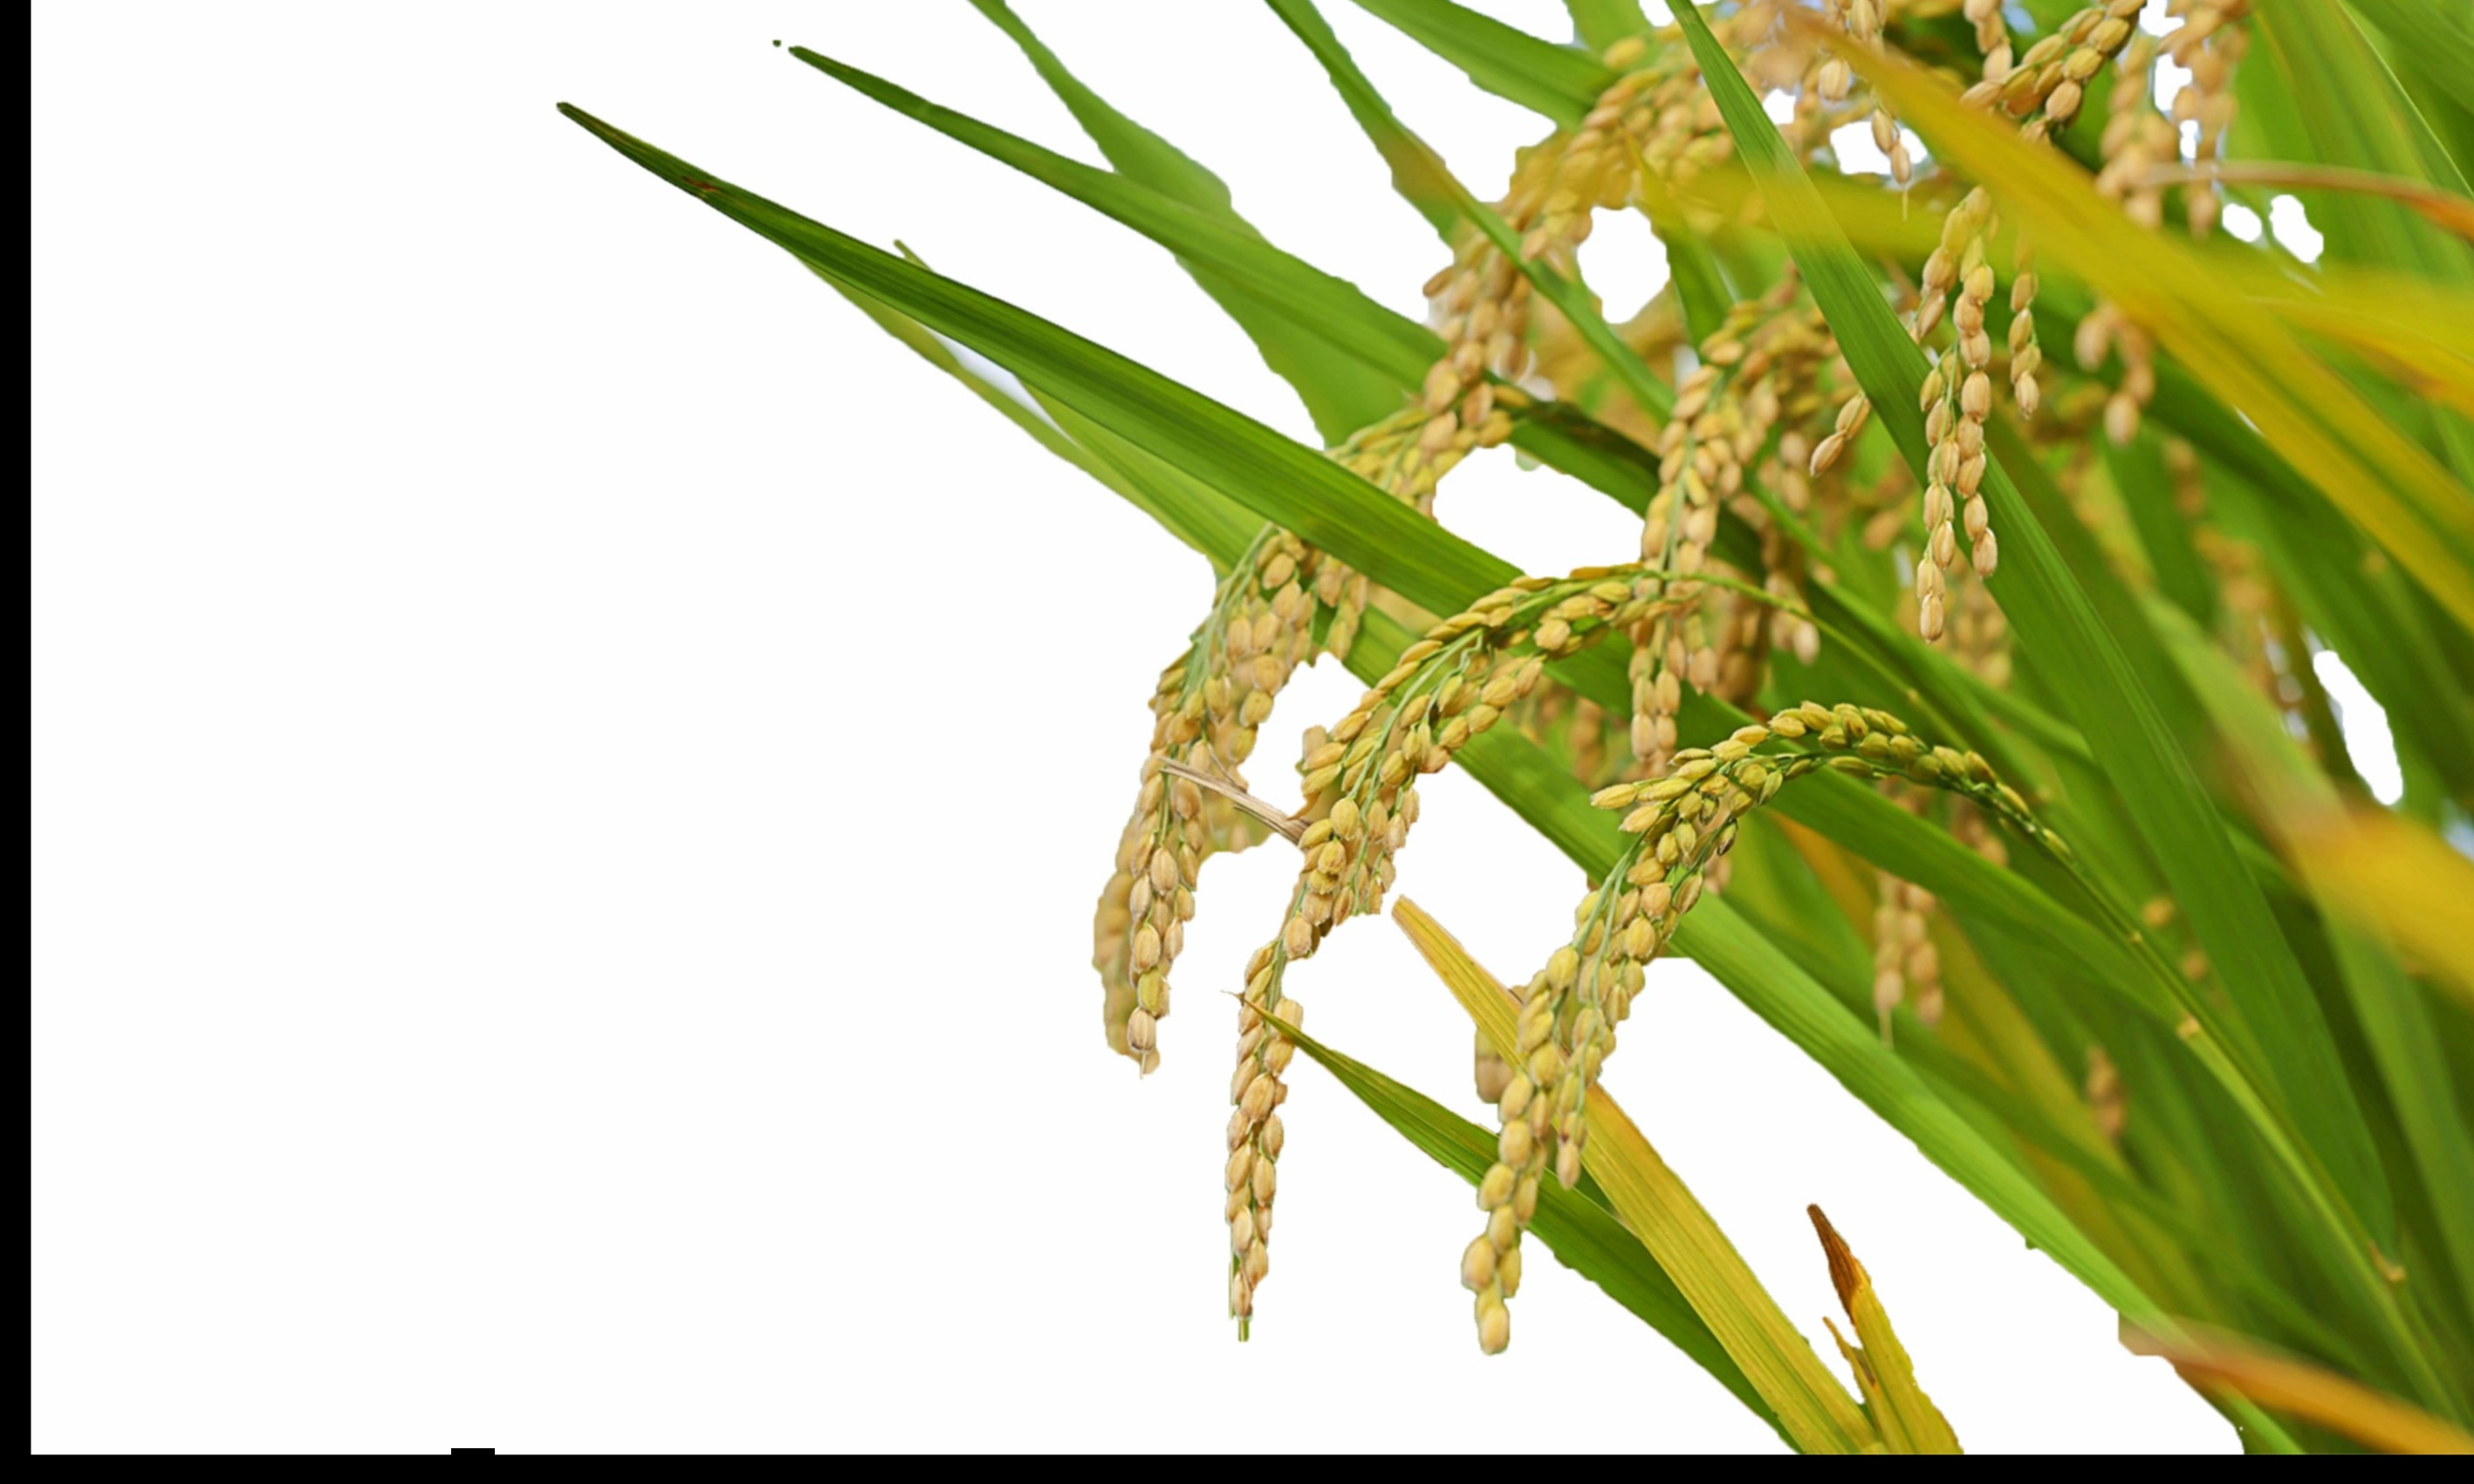rice: (1242, 532, 1854, 1330), (1474, 698, 1985, 1376), (1085, 378, 1461, 1060)
